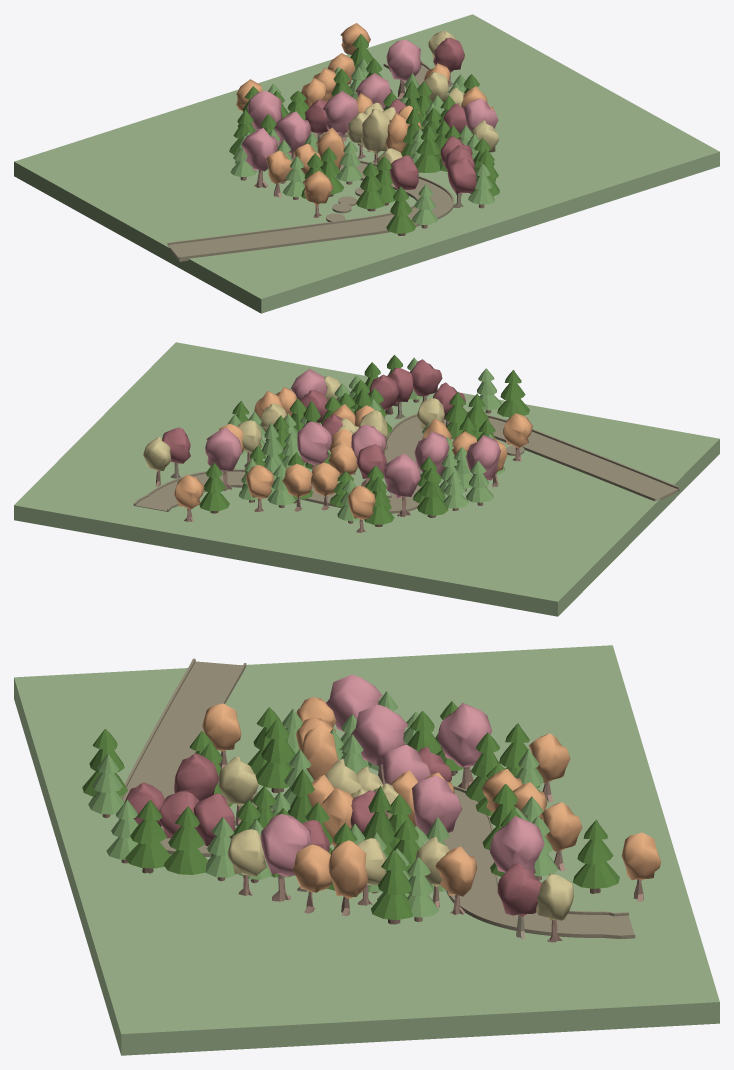
The model's file is Forest_Track.001.fbx.
3 renders of one model, top to bottom at view 1: azimuth 30°, elevation 25°; view 2: azimuth 150°, elevation 25°; view 3: azimuth 270°, elevation 25°, orthographic. The views are drawn at different scales.
Visible parts, largest first — view 1: ForestTrack:pCube3, ForestTrack:pCube2, ForestTrack:pCube1 (×4), pCube1 (×3), ForestTrack:pCube9, ForestTrack:pCube5, ForestTrack:pCube4, ForestTrack:pCylinder46, ForestTrack:pCylinder11, pCylinder56, ForestTrack:pCube8, ForestTrack:pCube13 (+15 smaller); view 2: ForestTrack:pCube3, ForestTrack:pCube2, ForestTrack:pCube1 (×7), pCube1 (×3), ForestTrack:pCube4, ForestTrack:Tree7:pCube1, ForestTrack:pCube9, ForestTrack:pCylinder16, ForestTrack:pCylinder46, pCylinder54, ForestTrack:pCube8, ForestTrack:pCube12 (+15 smaller); view 3: ForestTrack:pCube3, ForestTrack:pCube2, ForestTrack:pCube1 (×5), pCube1 (×4), pCylinder1 (×4), ForestTrack:pCylinder1 (×3), ForestTrack:pCube4, ForestTrack:pCube9, ForestTrack:Tree7:pCube1, pCylinder54, pCylinder27, pCube10 (+29 smaller).
Part boxes in pixels (x1,y1,x2,y2): ForestTrack:pCube3: [14, 14, 719, 313]; ForestTrack:pCube2: [167, 59, 454, 261]; ForestTrack:pCube1 (×4): [274, 90, 359, 169]; pCube1 (×3): [241, 23, 498, 171]; ForestTrack:pCube9: [386, 39, 421, 81]; ForestTrack:pCube5: [361, 109, 389, 154]; ForestTrack:pCube4: [247, 91, 282, 130]; ForestTrack:pCylinder46: [386, 186, 416, 233]; ForestTrack:pCylinder11: [356, 162, 385, 208]; pCylinder56: [414, 126, 440, 172]; ForestTrack:pCube8: [447, 158, 476, 193]; ForestTrack:pCube13: [389, 155, 418, 189]; ForestTrack:pCube3: [14, 342, 719, 616]; ForestTrack:pCube2: [133, 411, 679, 513]; ForestTrack:pCube1 (×7): [282, 374, 449, 497]; pCube1 (×3): [174, 368, 500, 509]; ForestTrack:pCube4: [384, 453, 420, 498]; ForestTrack:Tree7:pCube1: [297, 421, 332, 465]; ForestTrack:pCube9: [205, 427, 241, 471]; ForestTrack:pCylinder16: [417, 467, 448, 515]; ForestTrack:pCylinder46: [497, 370, 529, 417]; pCylinder54: [199, 463, 229, 511]; ForestTrack:pCube8: [410, 359, 442, 396]; ForestTrack:pCube12: [502, 413, 532, 447]; ForestTrack:pCube3: [14, 645, 719, 1055]; ForestTrack:pCube2: [118, 658, 635, 938]; ForestTrack:pCube1 (×5): [193, 704, 430, 845]; pCube1 (×4): [260, 674, 660, 892]; pCylinder1 (×4): [106, 799, 438, 919]; ForestTrack:pCylinder1 (×3): [287, 769, 558, 877]; ForestTrack:pCube4: [437, 702, 492, 767]; ForestTrack:pCube9: [490, 816, 544, 873]; ForestTrack:Tree7:pCube1: [411, 775, 462, 835]; pCylinder54: [572, 819, 619, 888]; pCylinder27: [125, 800, 170, 868]; pCube10: [328, 840, 367, 898].
Size of the model in its own units: 141 by 18.81 by 108.
